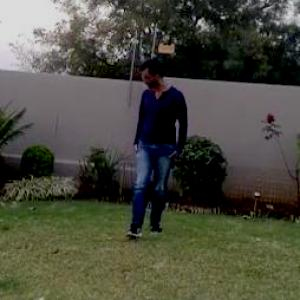follow: (126, 53, 186, 240)
